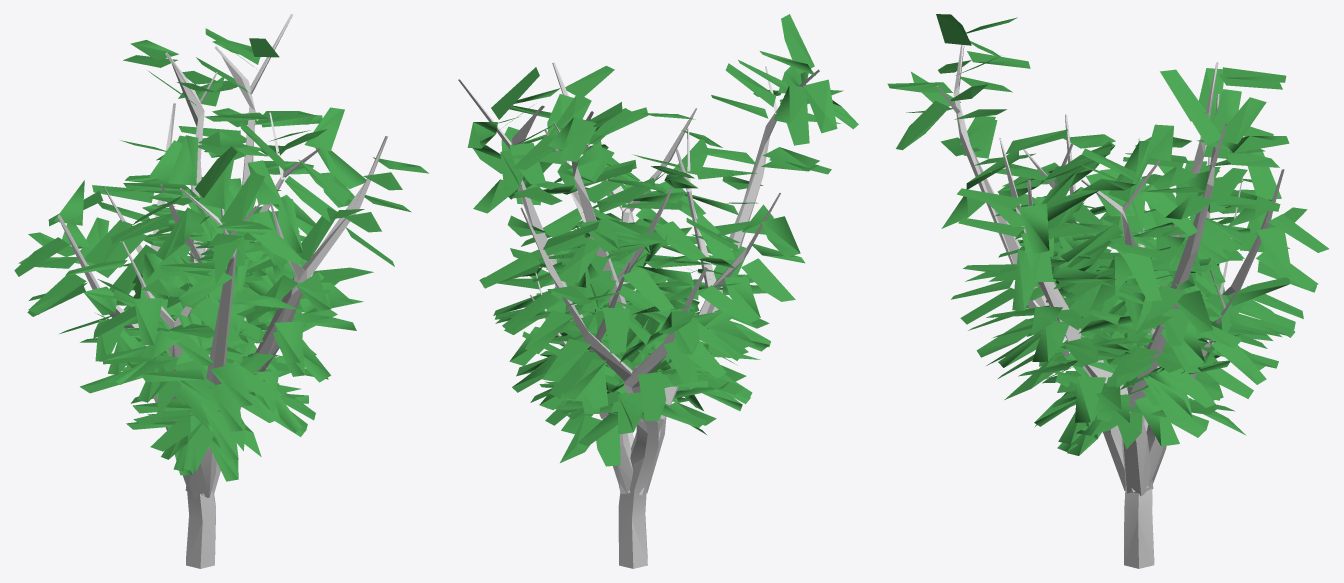
File: Tree2.fbx
The picture shows the model from 3 angles, left to right: view 1: azimuth 30°, elevation 25°; view 2: azimuth 150°, elevation 25°; view 3: azimuth 270°, elevation 25°; orthographic projection. The views are drawn at different scales.
Visible parts, largest first — view 1: Cube.001, LeafTree, STub; view 2: Cube.001, LeafTree, STub; view 3: Cube.001, LeafTree, STub.
Boxes of the visible parts, x1,y1,x2,y2 form: Cube.001: (14,28,428,481); LeafTree: (57,14,387,402); STub: (154,397,241,568); Cube.001: (467,14,858,466); LeafTree: (458,62,819,423); STub: (602,412,666,568); Cube.001: (887,14,1328,455); LeafTree: (937,30,1284,412); STub: (1103,415,1166,568).
Bounding box in the file's own units: 252 × 360 × 279.
